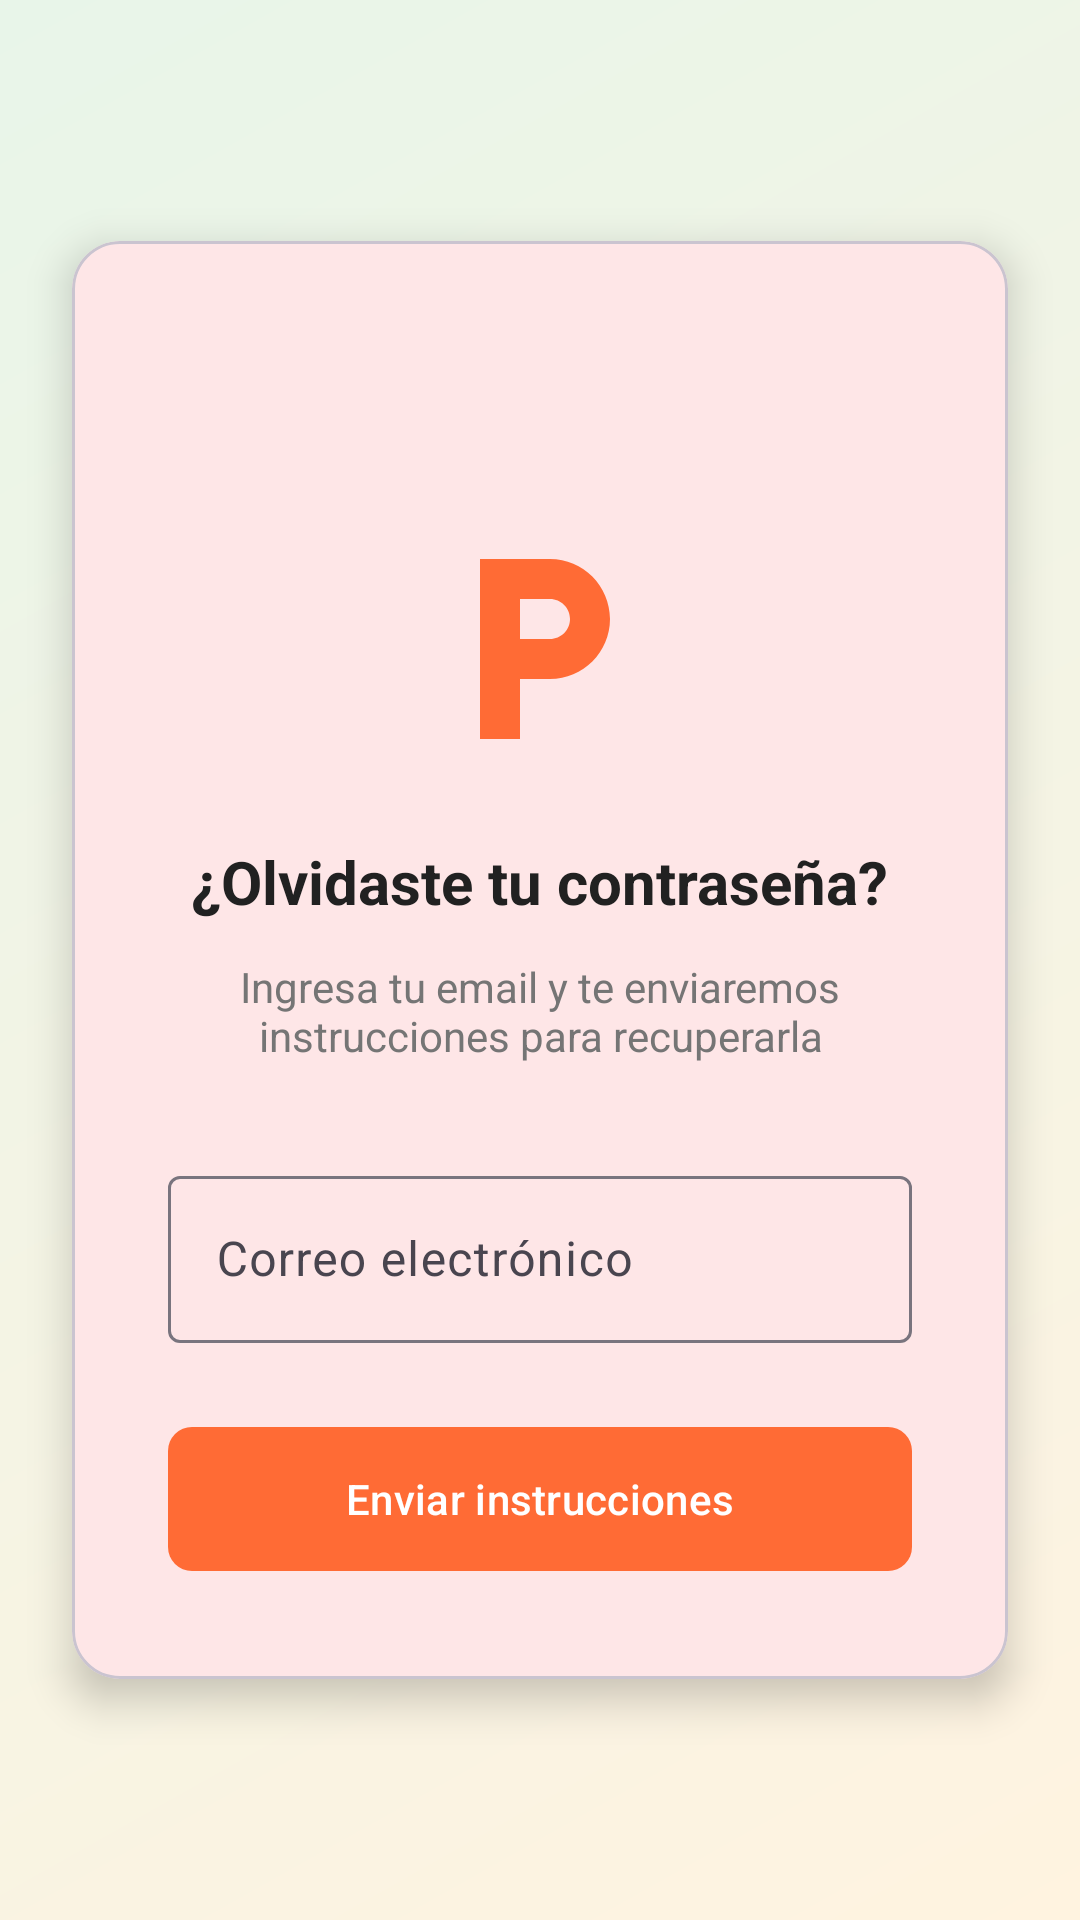

Named icons in this screenshot (1080*1920) and their centers, point (x, y):
parking: point (545, 649)
